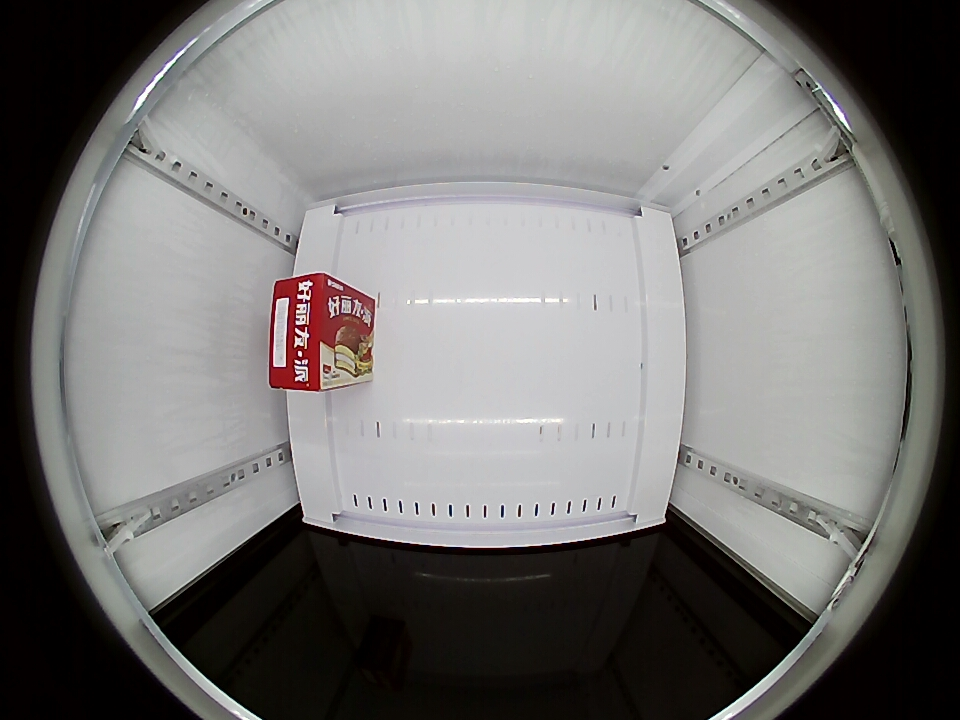haoliyou: (270, 272, 359, 391)
